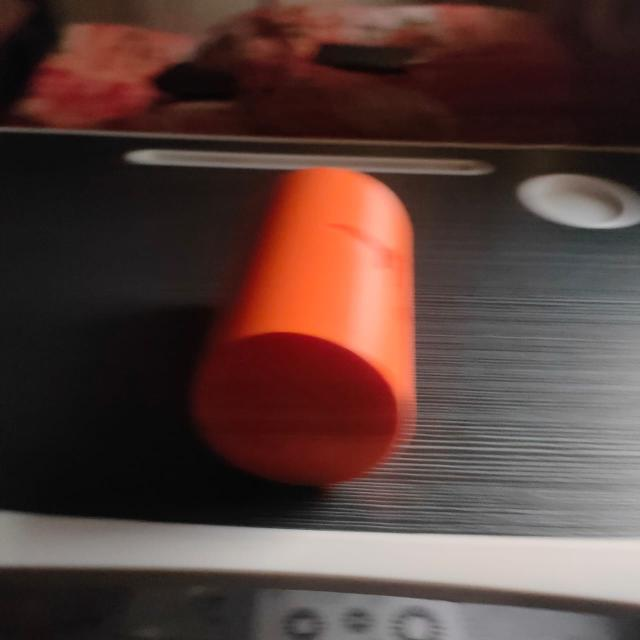Cylinder: (188, 164, 418, 488)
